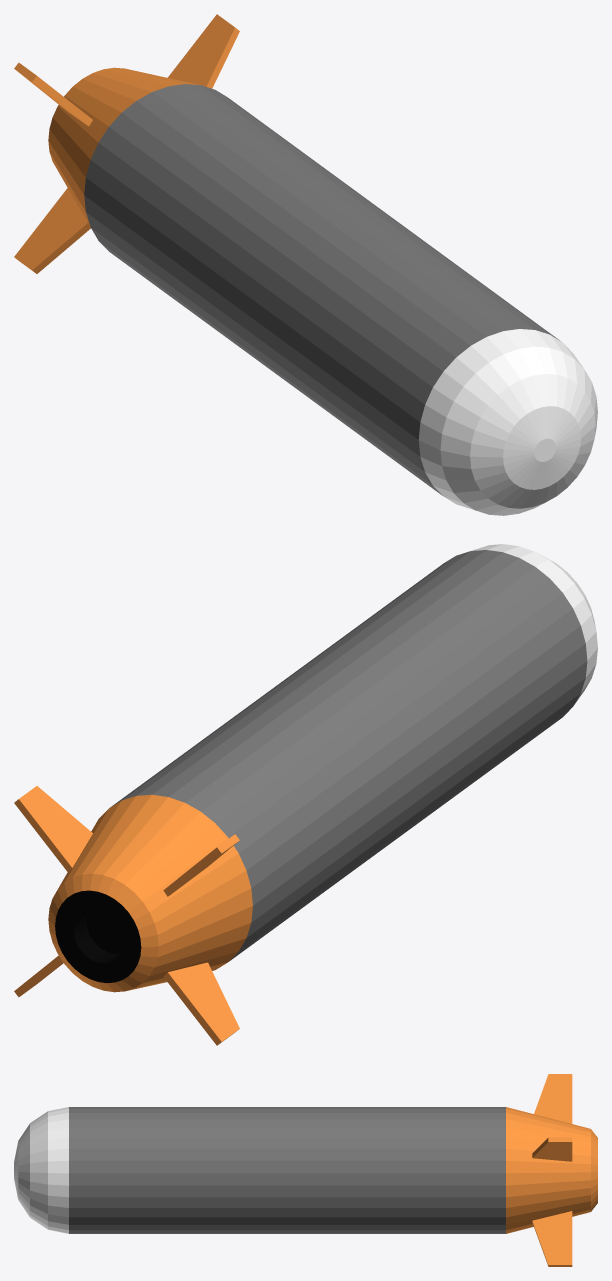
Rendered from HellFire.fbx.
The picture shows the model from 3 angles, top to bottom: view 1: azimuth 30°, elevation 25°; view 2: azimuth 150°, elevation 25°; view 3: azimuth 270°, elevation 25°; orthographic projection. The views are drawn at different scales.
Visible parts, largest first — view 1: HellFire; view 2: HellFire; view 3: HellFire.
Part boxes in pixels (x1,y1,x2,y2): HellFire: (14, 14, 597, 515); HellFire: (14, 544, 597, 1045); HellFire: (14, 1074, 597, 1266).
Bounding box in the file's own units: 0.1905 × 0.1739 × 0.71.
Materials: 1 (1 with a texture image).
